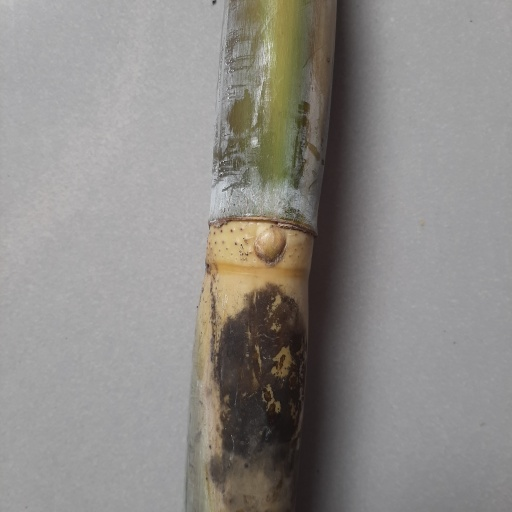Bud: (253, 224, 285, 263)
